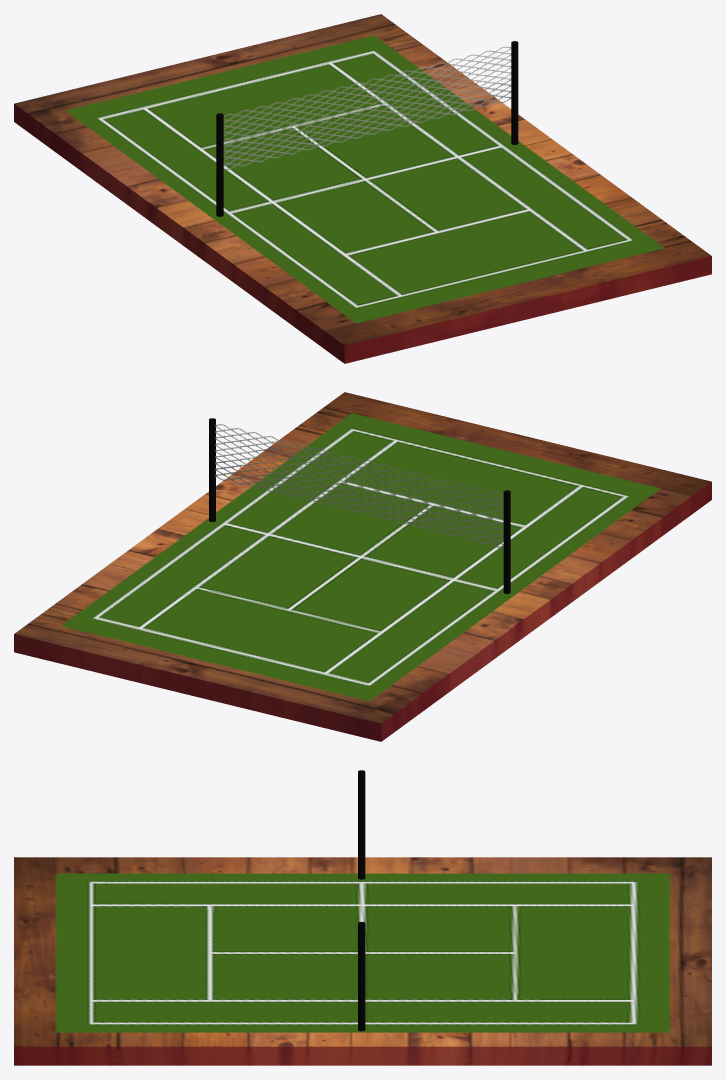
The model's file is badminton.glb.
The picture shows the model from 3 angles, top to bottom: view 1: azimuth 30°, elevation 25°; view 2: azimuth 150°, elevation 25°; view 3: azimuth 270°, elevation 25°; orthographic projection. The views are drawn at different scales.
Parts seen in each view (by area): view 1: node_id81_5, Object_9, Object_5, Object_7; view 2: node_id81_5, Object_9, Object_5, Object_7; view 3: node_id81_5, Object_5, Object_7.
Part boxes in pixels (<box>): node_id81_5: <box>14,14,711,363</box>; Object_9: <box>223,46,511,169</box>; Object_5: <box>216,113,223,216</box>; Object_7: <box>511,41,518,144</box>; node_id81_5: <box>14,392,711,741</box>; Object_9: <box>215,424,503,547</box>; Object_5: <box>503,490,510,593</box>; Object_7: <box>209,418,215,521</box>; node_id81_5: <box>14,857,711,1065</box>; Object_5: <box>358,770,365,879</box>; Object_7: <box>358,922,365,1031</box>.
Bounding box in the file's own units: 0.9297 × 0.2879 × 1.45.
Materials: 4 (4 with a texture image).
